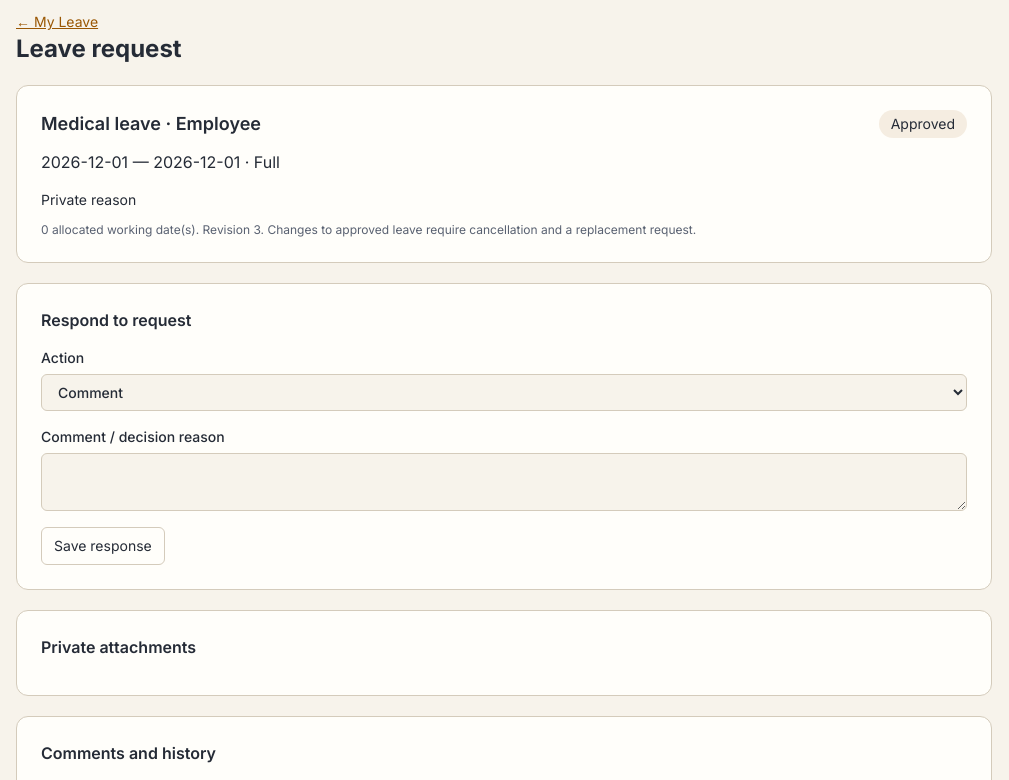
Test: owner cannot approve their own request and cancellation retains the approved booking pending review
The width and height of the screenshot is (1009, 780).
Later steps or results of the test are not shown.
Check: the text "Private reason" is shown, box [41,191,136,208]
Select "Cancel" in the dropdown labelled "Action": [504, 392] box [41,374,967,411]
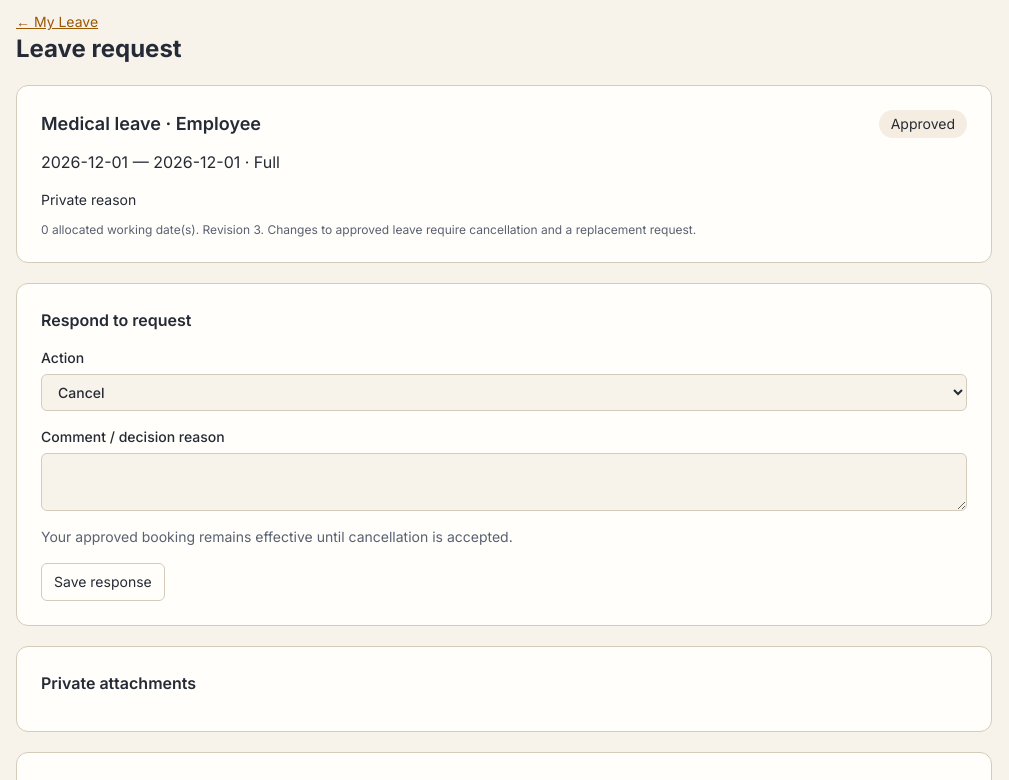
Check: the text "booking remains effective" is shown, box [41,528,513,545]
